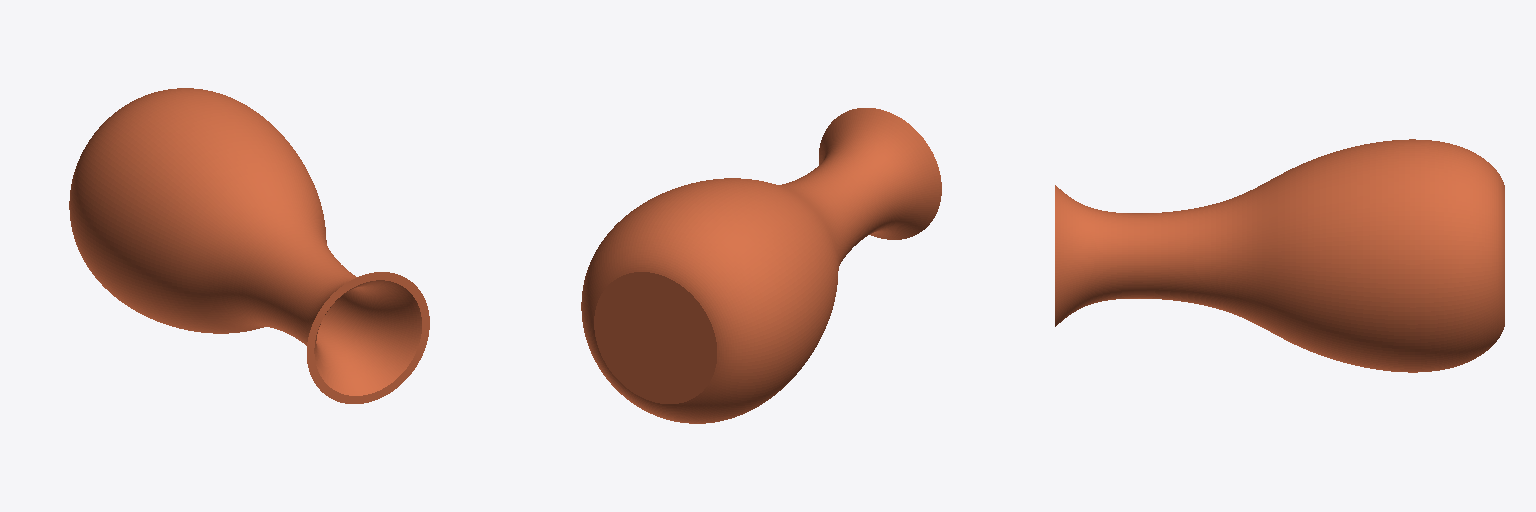
Rendered from vase_02.obj.
3 views of the same model, side by side, from view 1: azimuth 30°, elevation 25°; view 2: azimuth 150°, elevation 25°; view 3: azimuth 270°, elevation 25° (orthographic).
Visible parts, largest first — view 1: mesh1, mesh3, mesh2; view 2: mesh1, mesh0; view 3: mesh1.
Boxes of the visible parts, box(x1,y1,x2,y2) form: mesh1: box(69, 88, 356, 345); mesh3: box(314, 280, 421, 395); mesh2: box(307, 272, 429, 403); mesh1: box(581, 108, 941, 423); mesh0: box(594, 272, 716, 403); mesh1: box(1055, 139, 1504, 372).
Size of the model in its own units: 0.5191 by 0.5191 by 1.